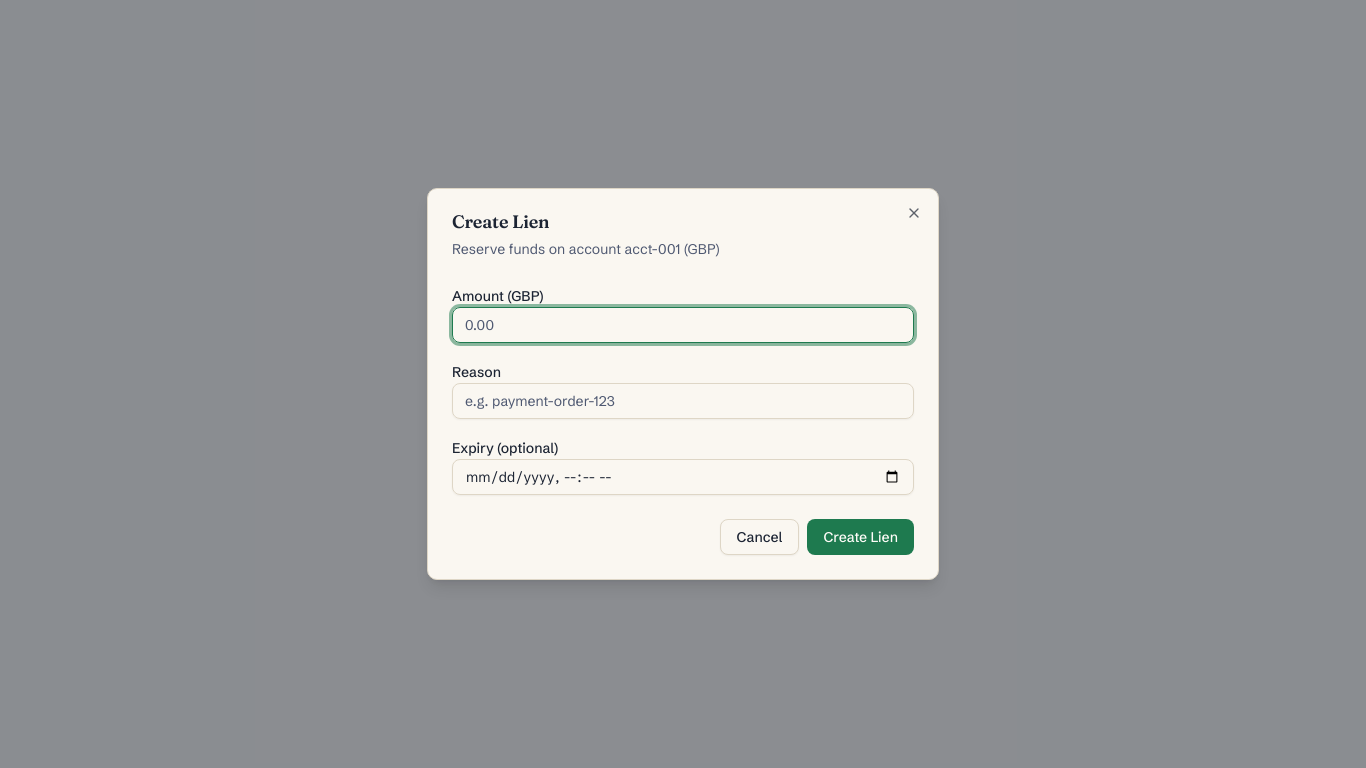
Test: CreateLienDialog - validation › shows error when amount is zero
The image size is (1366, 768).
Type "0" into the field labelled "Amount (GBP)" at (683,325), box [452,307,914,343]
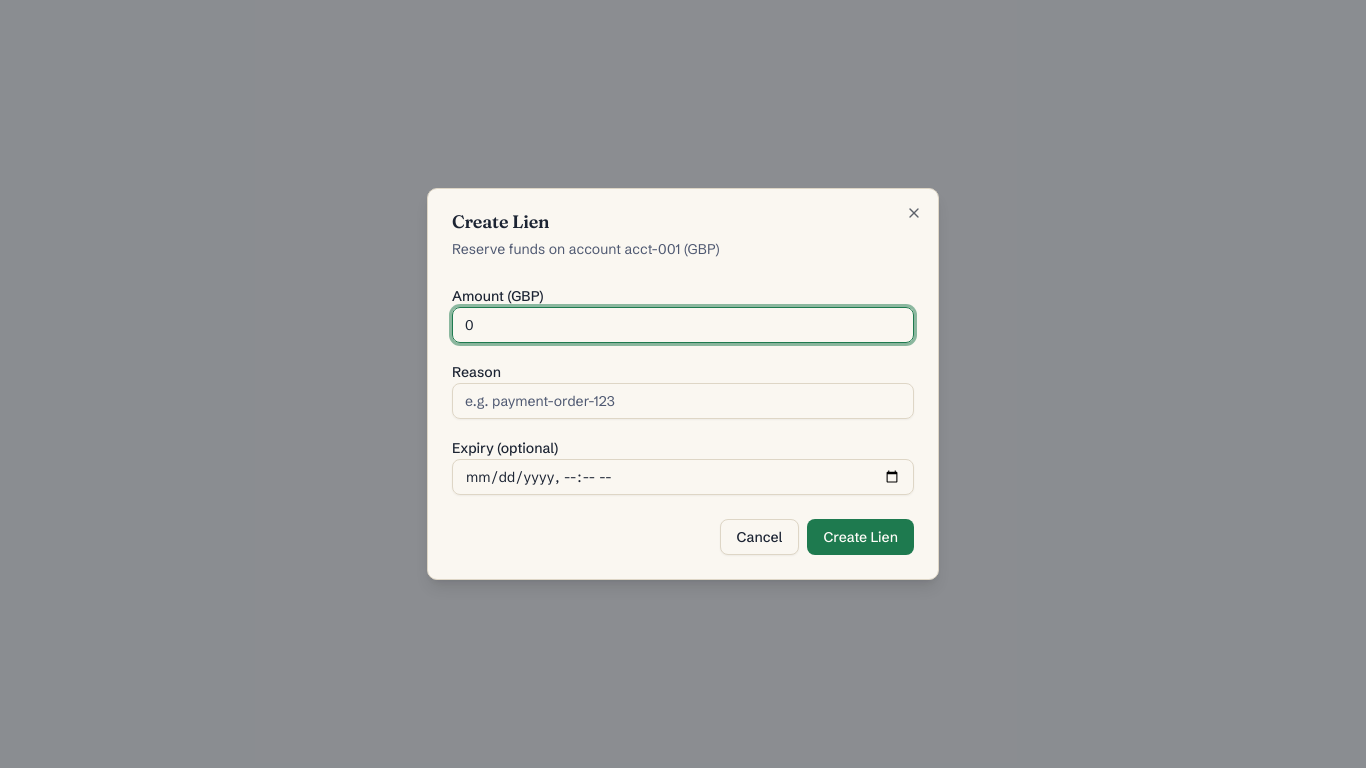
Type "pay-ref-001" into the field labelled "Reason" at (683,401), box [452,383,914,419]
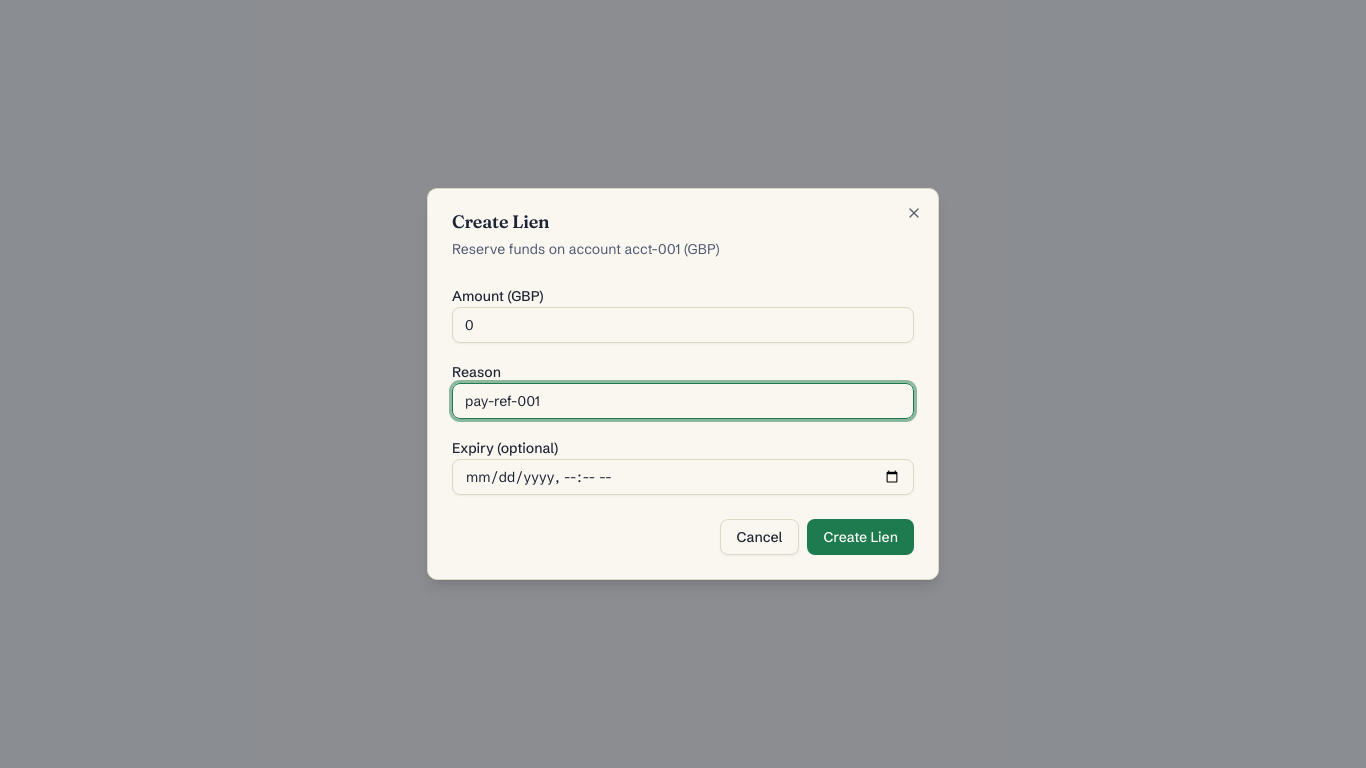
Click the button "Create Lien" at (861,537), box [807,519,914,555]
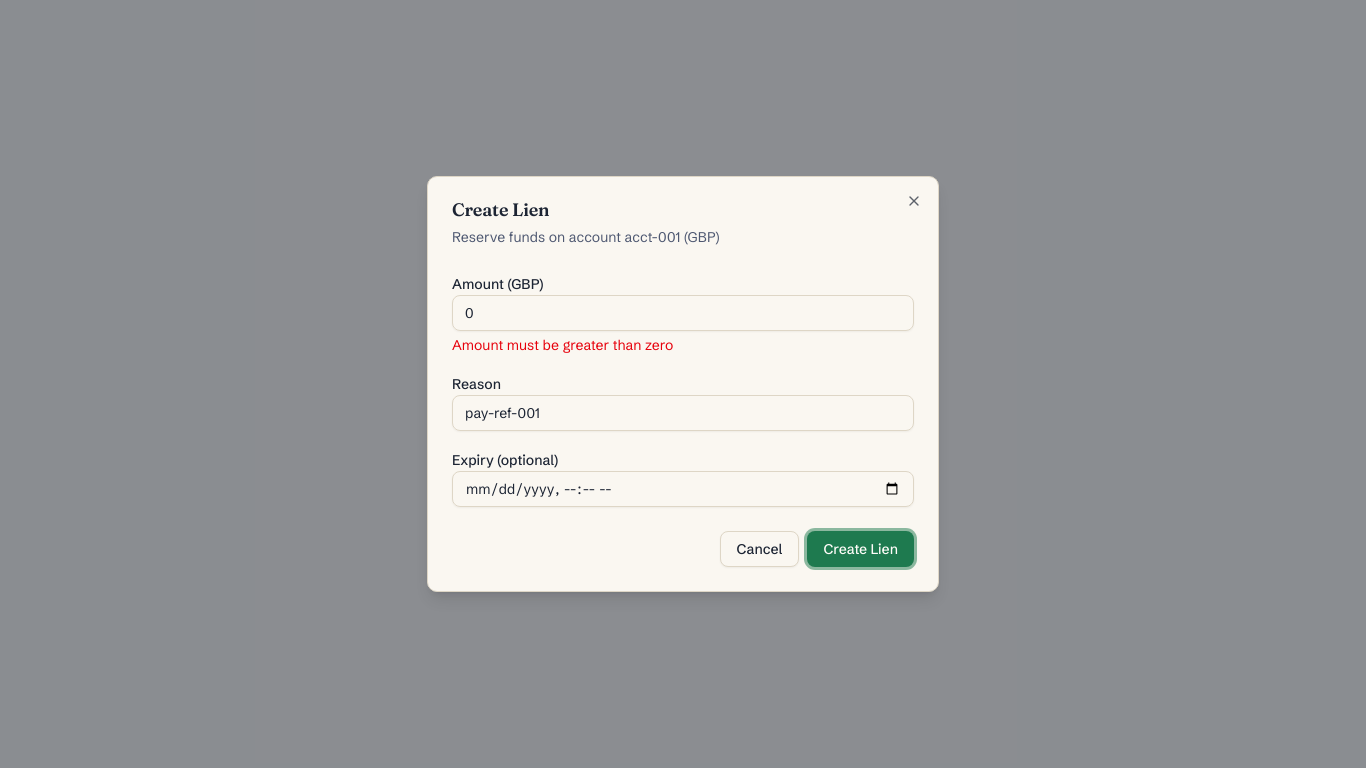
Now the text "Amount must be greater than zero" is shown, box [452,336,673,354]
